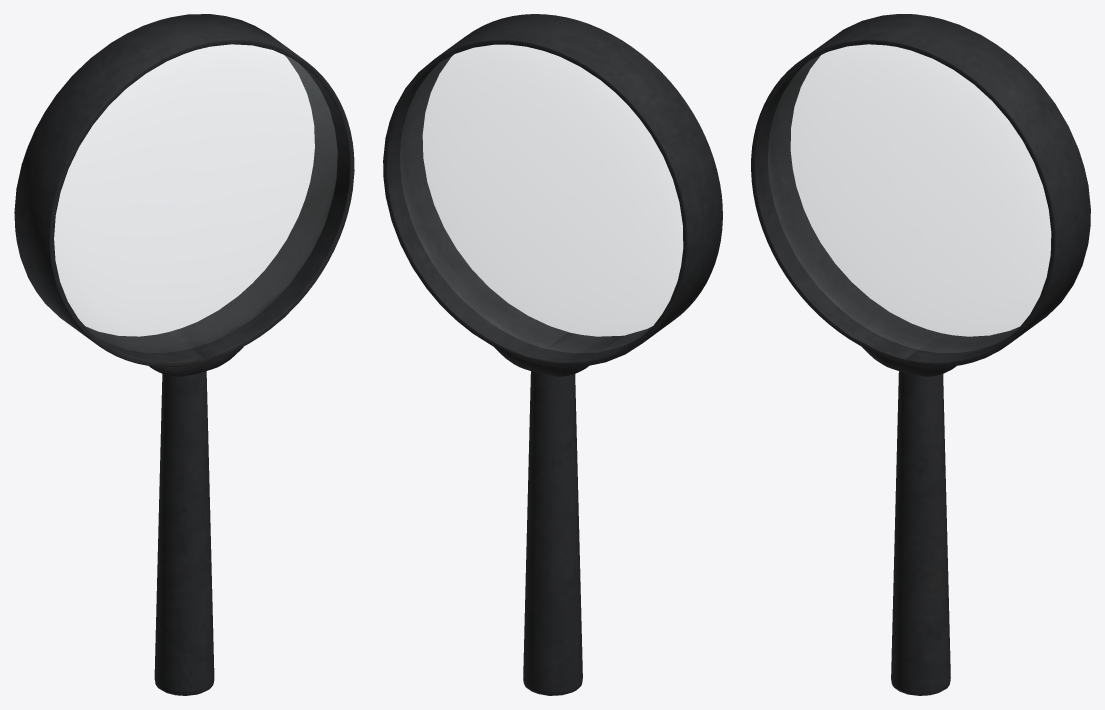
File: ph_magnifying_glass_01.glb
3 views of the same model, side by side, from view 1: azimuth 30°, elevation 25°; view 2: azimuth 150°, elevation 25°; view 3: azimuth 330°, elevation 25° (orthographic).
Visible parts, largest first — view 1: magnifying_glass_01; view 2: magnifying_glass_01; view 3: magnifying_glass_01.
Boxes of the visible parts, box(x1,y1,x2,y2) form: magnifying_glass_01: box(14, 14, 354, 695); magnifying_glass_01: box(383, 14, 722, 695); magnifying_glass_01: box(751, 14, 1090, 695).
Size of the model in its own units: 0.1322 by 0.2715 by 0.0269.
Materials: 2 (1 with a texture image).
